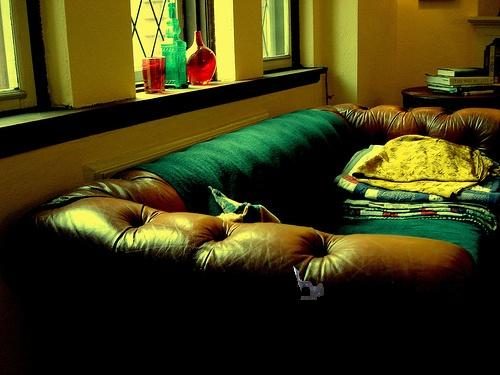tampered: (294, 267, 324, 300)
